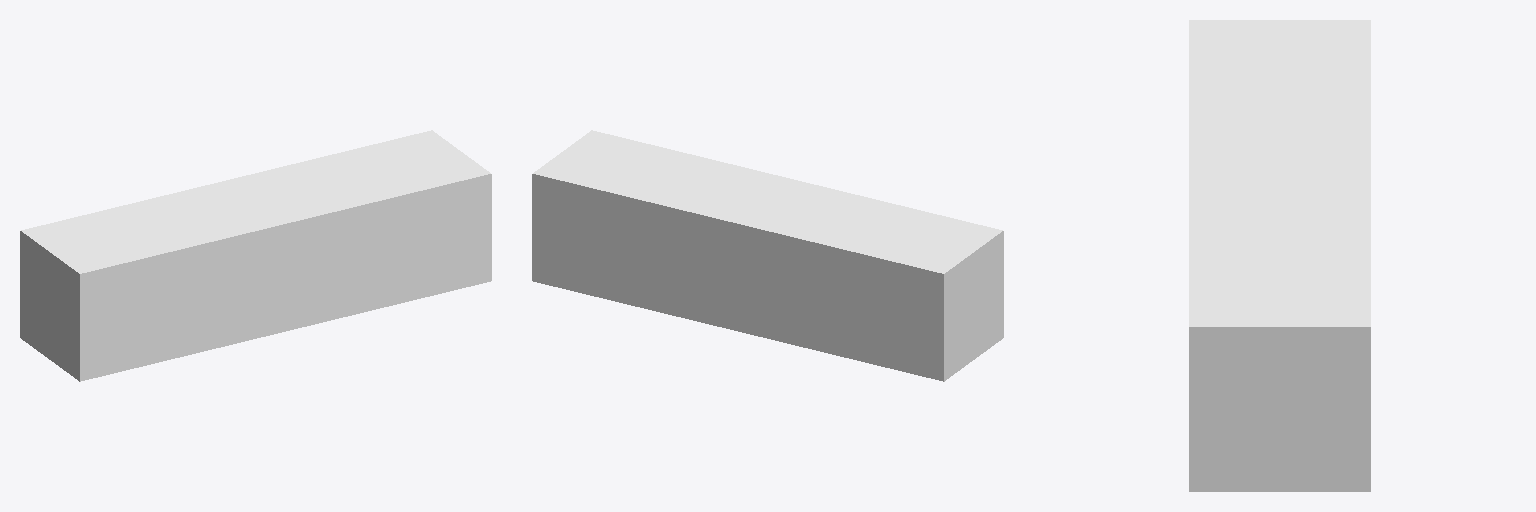
The robot description file, URDF, robot "I.urdf":
<?xml version="0.0" ?>
<robot name="I.urdf">
  <link name="baseLink">
    <contact>
      <lateral_friction value="0.8"/>
      <rolling_friction value="0.001"/>
      <contact_cfm value="0.0"/>
      <contact_erp value="1.0"/>
    </contact>
    <inertial>
    <origin rpy="0 0 0" xyz="0.0 0.0 0.0"/>
       <mass value=".1"/>
       <inertia ixx="1e-3" ixy="0" ixz="0" iyy="1e-3" iyz="0" izz="1e-3"/>
    </inertial>
    <visual>
      <origin xyz="0 0 0" rpy="0 0 0"/>
      <geometry>
        <mesh filename="I.obj" scale="1 1 1"/>
      </geometry>
      <material name="white">
        <color rgba="1. 1. 1. 1."/>
      </material>
    </visual>
    <collision>
      <origin xyz="0 0 0" rpy="0 0 0"/>
      <geometry>
        <mesh filename="I.obj" scale="1 1 1"/>
      </geometry>
    </collision>
  </link>
</robot>

--- Facts derived from the render (not from the file) ---
Views: 3 orthographic renders of the robot side by side, from view 1: azimuth 30°, elevation 25°; view 2: azimuth 150°, elevation 25°; view 3: azimuth 270°, elevation 25°.
Robot: I.urdf — 1 links, 0 joints (none); root link baseLink; default pose: all joints at 0.
Links seen in each view (by area): view 1: baseLink; view 2: baseLink; view 3: baseLink.
Link boxes in pixels (x1,y1,x2,y2): baseLink: [20, 130, 491, 381]; baseLink: [532, 130, 1003, 381]; baseLink: [1189, 20, 1370, 491].
Bounding box of the posed robot: 0.2 × 0.05 × 0.05 m (x, y, z).
Meshes: 1 distinct files referenced, 1 mesh visuals loaded (1 OBJ).